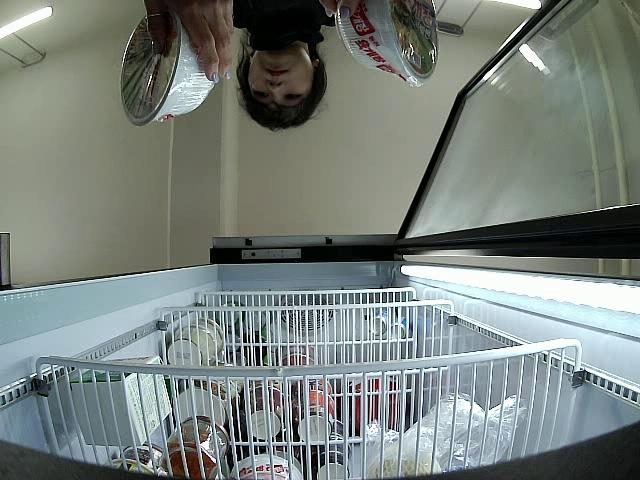00_hand: (143, 0, 236, 87)
09_yukGaeJang: (121, 9, 217, 125), (333, 0, 439, 89)
